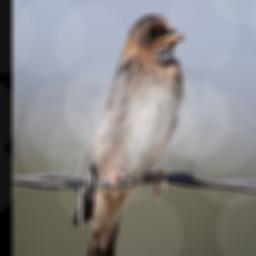Swallow: (72, 11, 187, 256)
